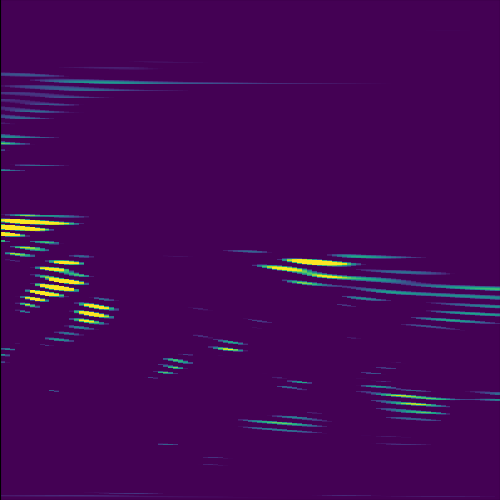semblance: (12, 254, 94, 316), (42, 296, 117, 344), (1, 211, 85, 248)
